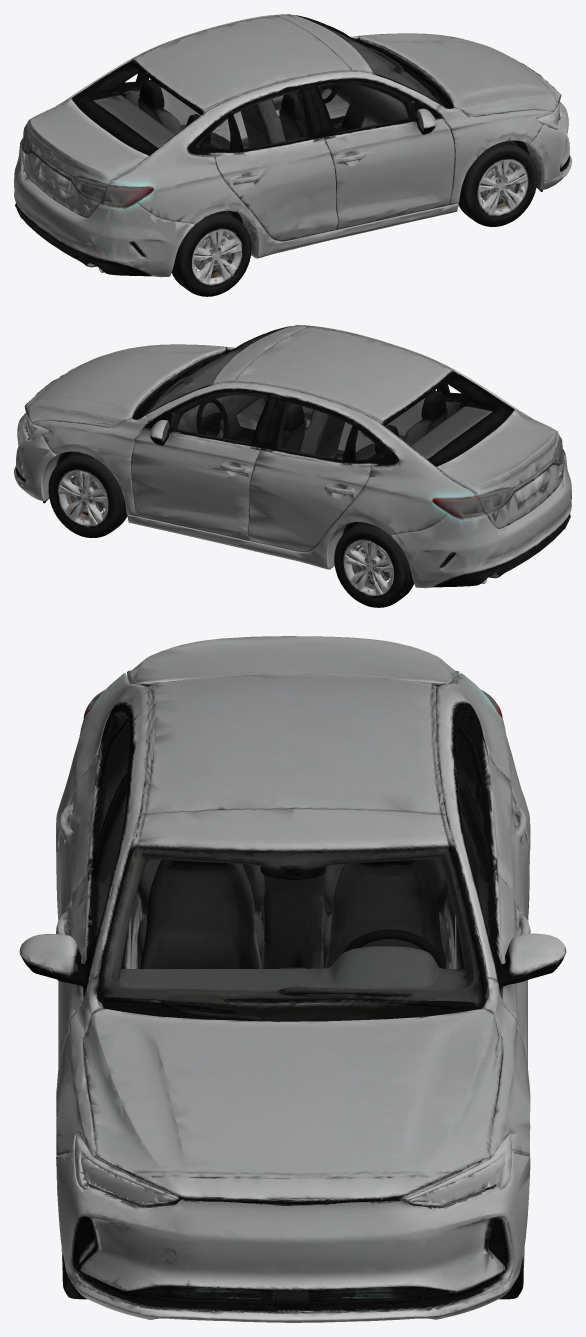
The model's file is body-sedan.glb.
3 renders of one model, top to bottom at view 1: azimuth 30°, elevation 25°; view 2: azimuth 150°, elevation 25°; view 3: azimuth 270°, elevation 25°, orthographic. The views are drawn at different scales.
Visible parts, largest first — view 1: tripo_node_18625c85-4198-4c9b-a492-5a8b5c0a980b; view 2: tripo_node_18625c85-4198-4c9b-a492-5a8b5c0a980b; view 3: tripo_node_18625c85-4198-4c9b-a492-5a8b5c0a980b.
Part boxes in pixels (box(x1,y1,x2,y2)): tripo_node_18625c85-4198-4c9b-a492-5a8b5c0a980b: box(14, 14, 571, 296); tripo_node_18625c85-4198-4c9b-a492-5a8b5c0a980b: box(14, 325, 571, 607); tripo_node_18625c85-4198-4c9b-a492-5a8b5c0a980b: box(19, 636, 566, 1322).
Bounding box in the file's own units: 0.9802 × 0.3432 × 0.464.
1 material, 1 textured.
